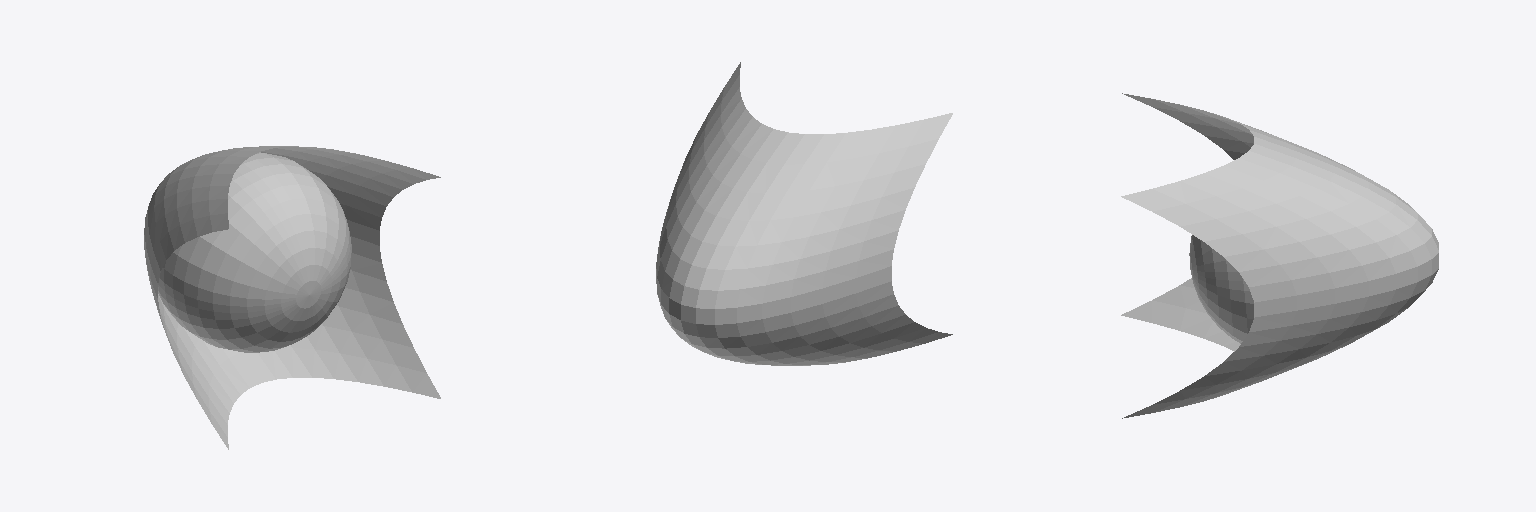
The model's file is surfaceSphereTri.obj.
The picture shows the model from 3 angles: view 1: azimuth 30°, elevation 25°; view 2: azimuth 150°, elevation 25°; view 3: azimuth 270°, elevation 25°; orthographic projection.
Visible parts, largest first — view 1: SurfPatch, SurfSphere; view 2: SurfPatch; view 3: SurfPatch, SurfSphere.
Boxes of the visible parts, box(x1,y1,x2,y2) form: SurfPatch: box(144, 146, 440, 449); SurfSphere: box(158, 152, 351, 352); SurfPatch: box(656, 62, 952, 365); SurfPatch: box(1121, 93, 1438, 418); SurfSphere: box(1189, 235, 1253, 343).
Bounding box in the file's own units: 2.53 × 2.53 × 3.15.